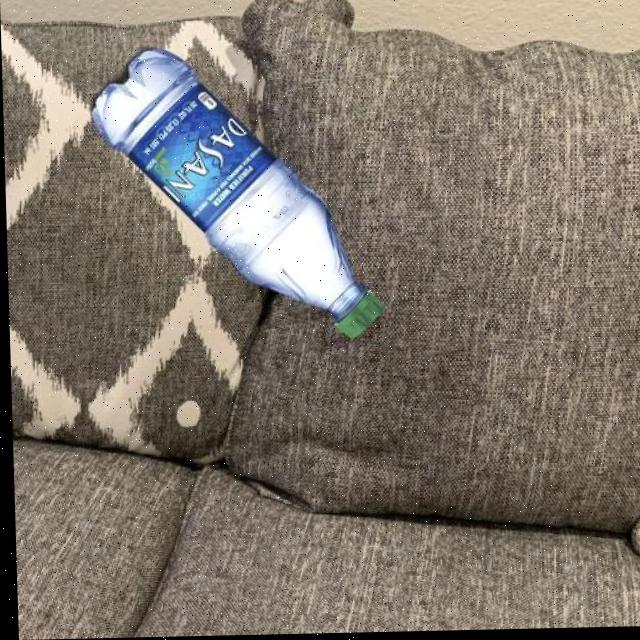bottle: (86, 42, 384, 348)
